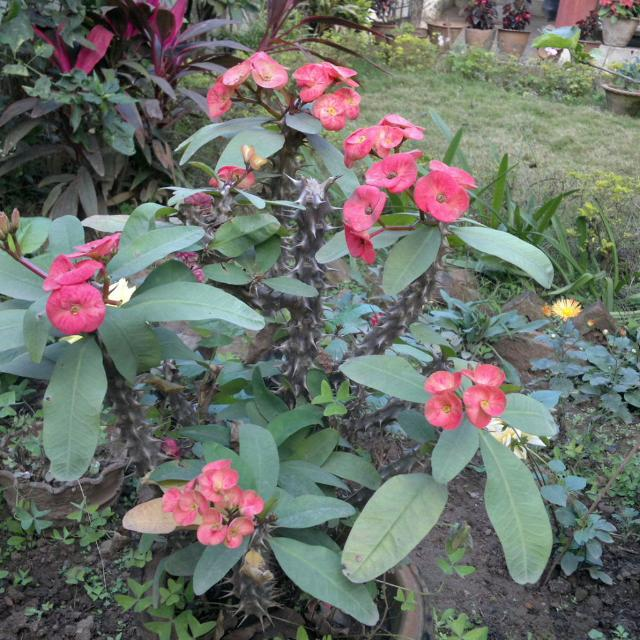Flower: (342, 115, 472, 263), (157, 457, 273, 549), (43, 236, 124, 340), (207, 51, 285, 125), (297, 64, 357, 124), (459, 384, 513, 430), (458, 364, 516, 392), (422, 389, 458, 426), (422, 375, 464, 395), (550, 296, 578, 322)
